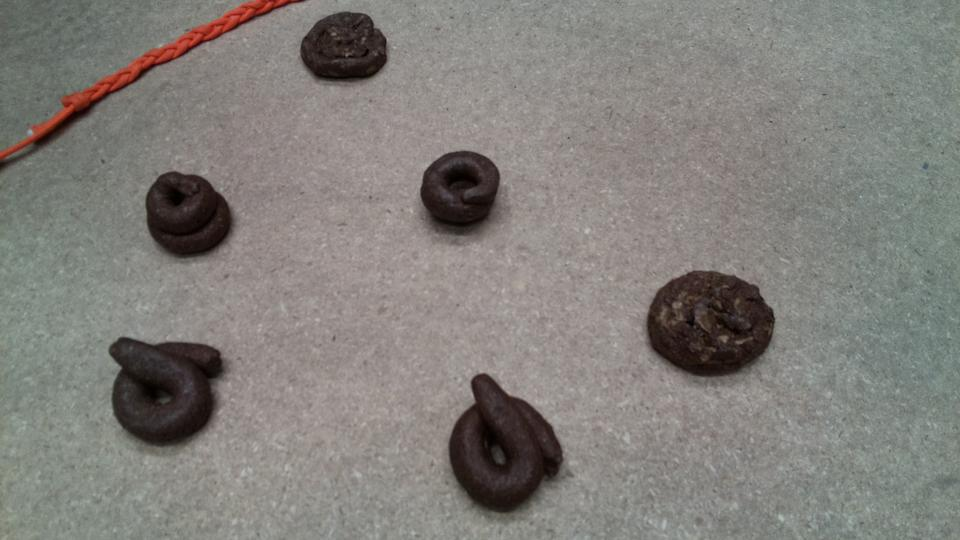poop: (446, 369, 565, 516), (644, 265, 780, 380), (106, 333, 228, 449), (143, 167, 237, 259), (416, 148, 503, 231), (298, 9, 390, 84)
rope: (1, 1, 293, 163)
